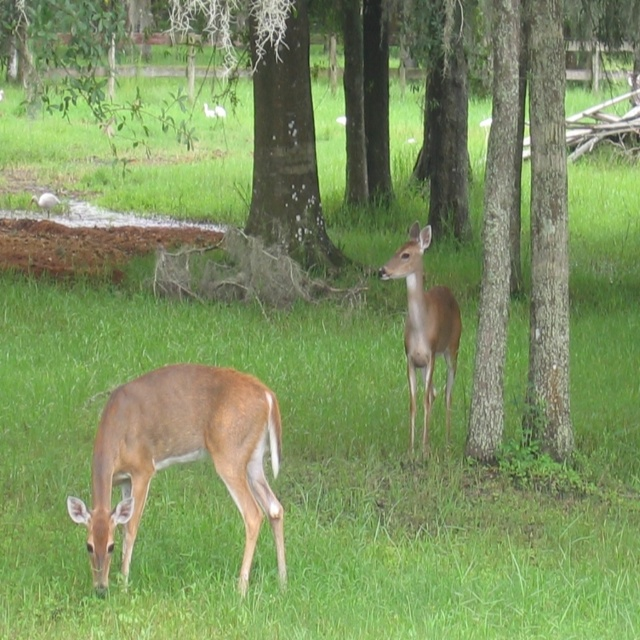Deer: (66, 363, 284, 600), (378, 220, 464, 457)
